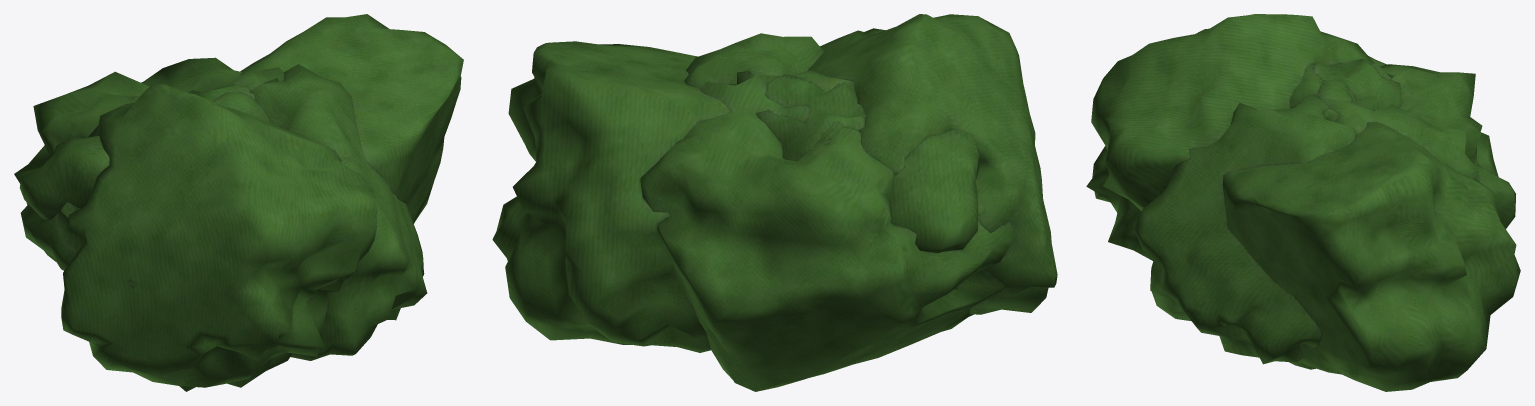
Rendered from round-green.glb.
3 views of the same model, side by side, from view 1: azimuth 30°, elevation 25°; view 2: azimuth 150°, elevation 25°; view 3: azimuth 270°, elevation 25° (orthographic). The views are drawn at different scales.
Parts seen in each view (by area): view 1: bush_leaves; view 2: bush_leaves; view 3: bush_leaves.
Boxes of the visible parts, bbox=[...] form: bush_leaves: bbox=[14, 14, 463, 391]; bush_leaves: bbox=[492, 14, 1057, 391]; bush_leaves: bbox=[1086, 14, 1520, 391].
Size of the model in its own units: 1.05 by 0.6328 by 0.9185.
Materials: 2 (2 with a texture image).
